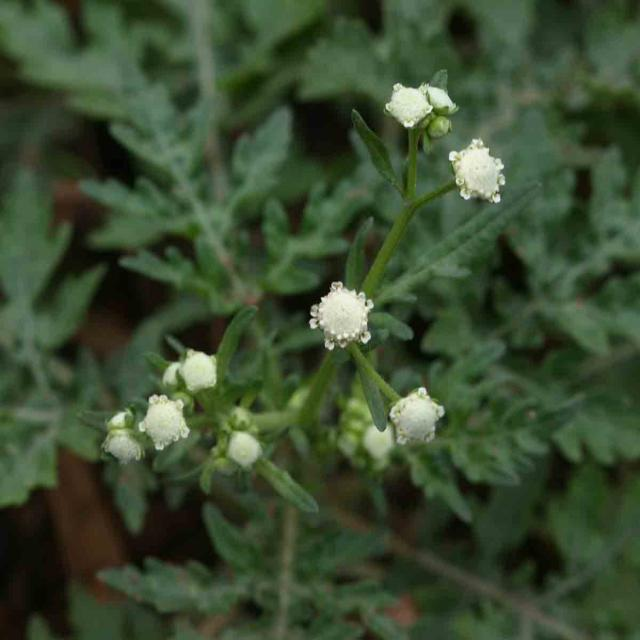Poisonous-Parthenium: (315, 243, 477, 485), (88, 354, 312, 520), (376, 71, 522, 249)
